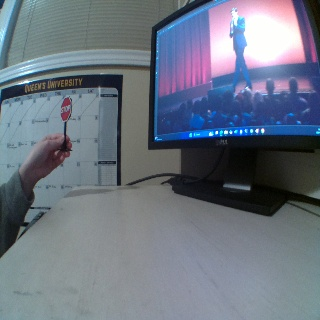sign_stop: (60, 97, 72, 119)
